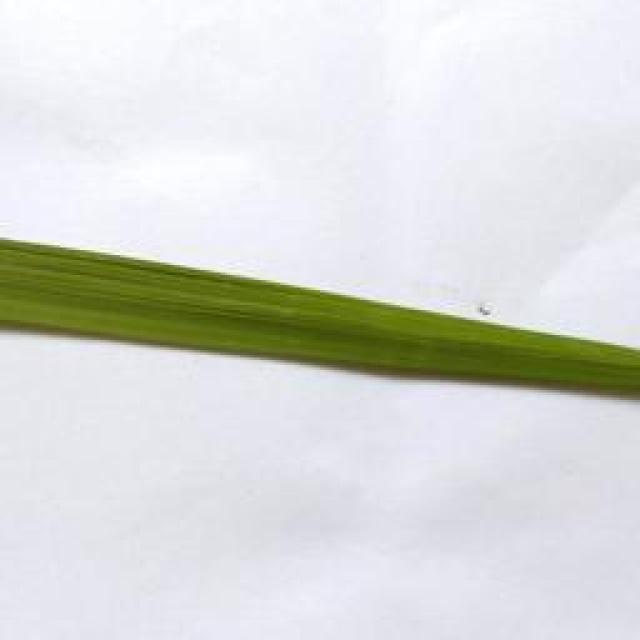Healthy-Plant: (3, 224, 640, 397)
